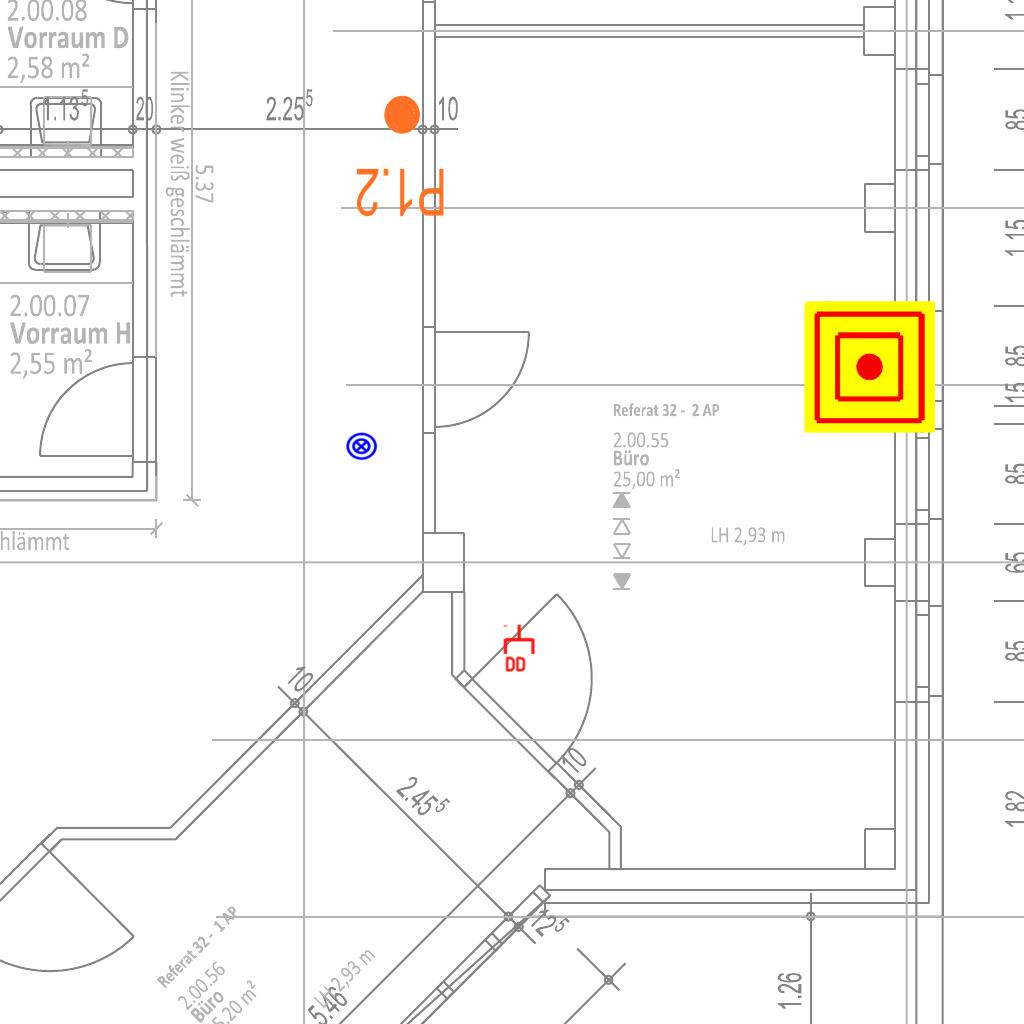Datenanschluss_zweifach: (503, 623, 537, 674)
Downlight_LED_Einbauleuchten_Flur: (354, 92, 447, 220)
NAM-Nichtautomatischer_Melder: (804, 301, 936, 433)
Taster_beleuchtet: (345, 430, 378, 463)
